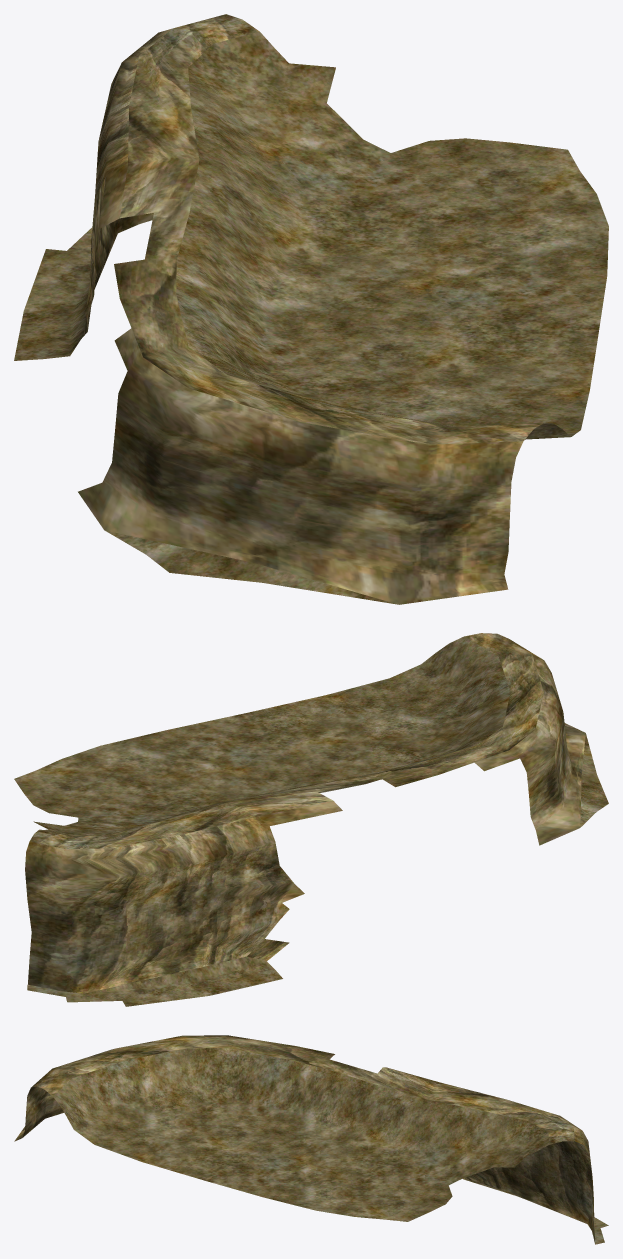
File: RM_PLAYSURFACE_FINAL_MESH04.fbx
The picture shows the model from 3 angles, top to bottom: view 1: azimuth 30°, elevation 25°; view 2: azimuth 150°, elevation 25°; view 3: azimuth 270°, elevation 25°; orthographic projection. The views are drawn at different scales.
Visible parts, largest first — view 1: RM_PLAYSURFACE_FINAL_MESH04; view 2: RM_PLAYSURFACE_FINAL_MESH04; view 3: RM_PLAYSURFACE_FINAL_MESH04.
Part boxes in pixels (left/top/right/bottom): RM_PLAYSURFACE_FINAL_MESH04: left=14, top=14, right=608, bottom=604; RM_PLAYSURFACE_FINAL_MESH04: left=14, top=633, right=608, bottom=1006; RM_PLAYSURFACE_FINAL_MESH04: left=14, top=1035, right=608, bottom=1244.
Bounding box in the file's own units: 178320 × 53723 × 260239.
Materials: 4 (4 with a texture image).
